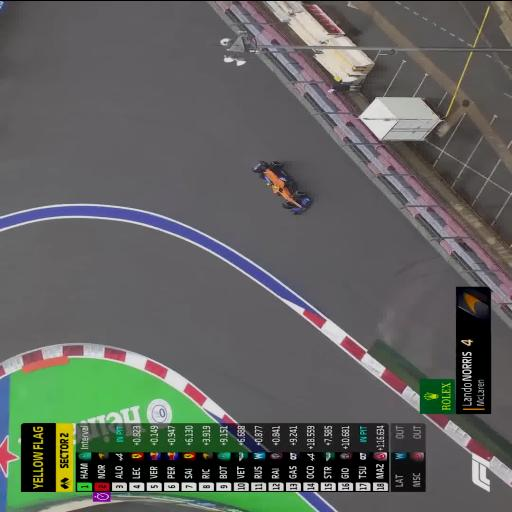f1_car: (252, 160, 311, 214)
